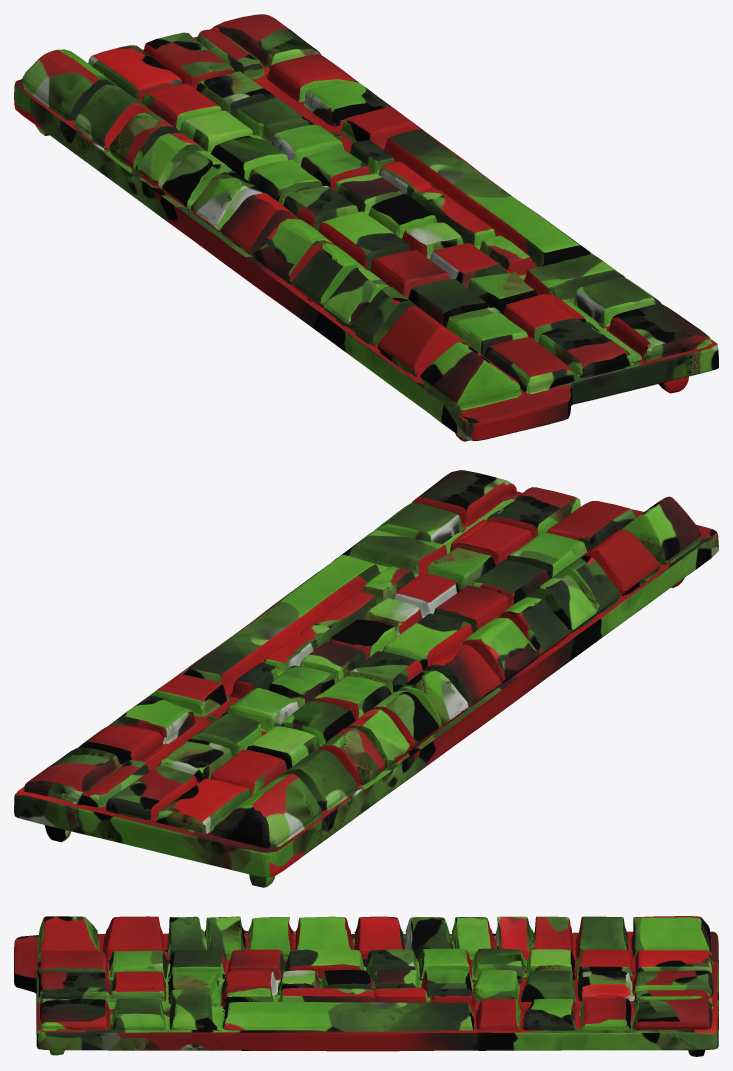
The model's file is sample.obj.
The picture shows the model from 3 angles, top to bottom: view 1: azimuth 30°, elevation 25°; view 2: azimuth 150°, elevation 25°; view 3: azimuth 270°, elevation 25°; orthographic projection. The views are drawn at different scales.
Bounding box in the file's own units: 0.1625 × 0.05 × 0.4865.
